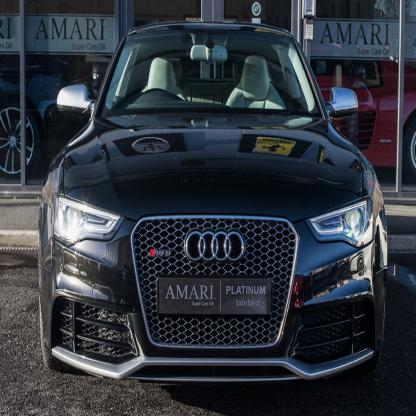Car: (39, 21, 390, 381), (316, 61, 416, 182), (1, 57, 75, 180)
